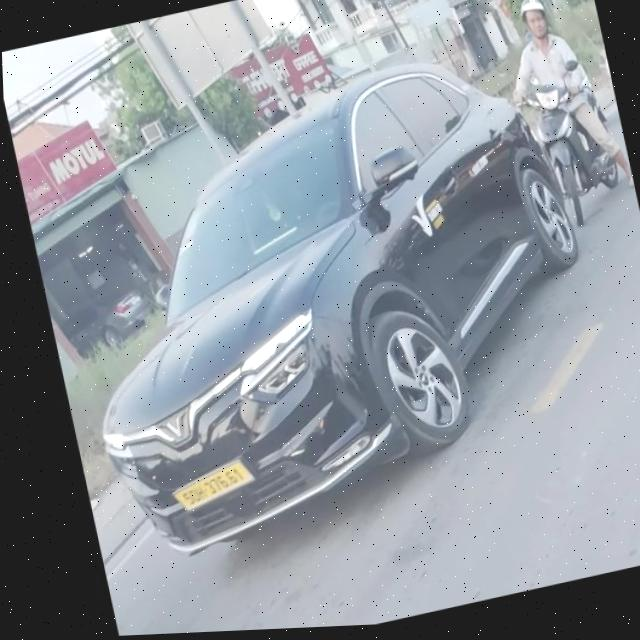car: (37, 31, 634, 573)
motorcycle: (515, 68, 633, 230)
plate: (165, 445, 271, 519)
